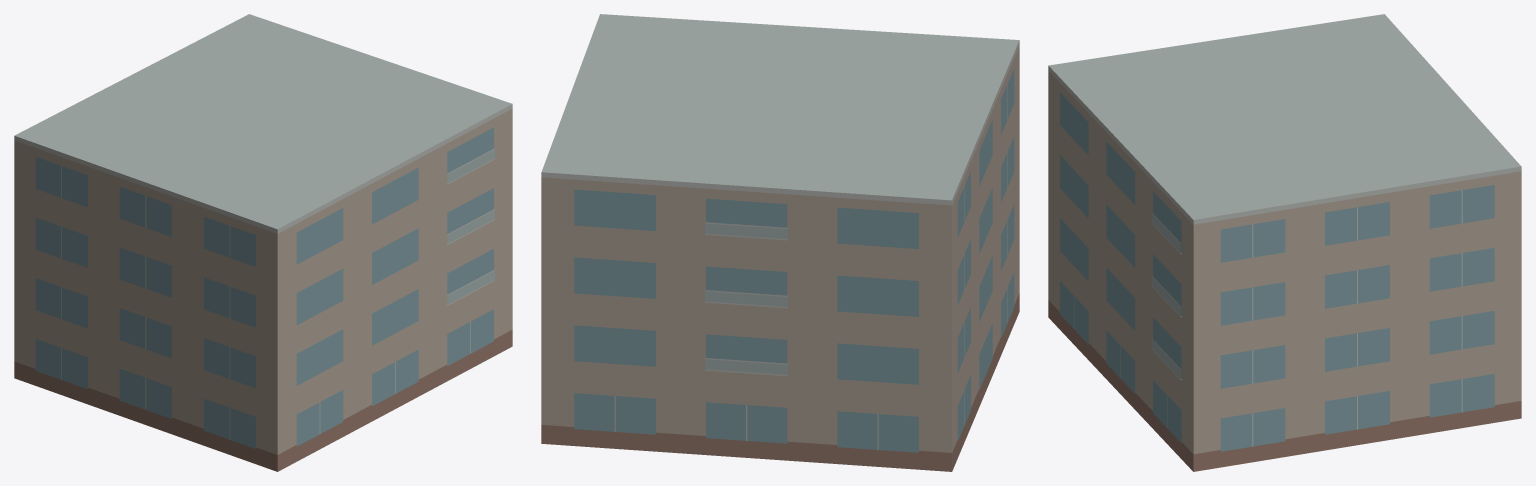
The model's file is survey-upis-32843944.glb.
The picture shows the model from 3 angles, left to right: view 1: azimuth 30°, elevation 25°; view 2: azimuth 150°, elevation 25°; view 3: azimuth 270°, elevation 25°; orthographic projection. The views are drawn at different scales.
Parts seen in each view (by area): view 1: survey-upis-32843944.tmp; view 2: survey-upis-32843944.tmp; view 3: survey-upis-32843944.tmp.
Part boxes in pixels (bbox=[...]): survey-upis-32843944.tmp: bbox=[14, 14, 512, 471]; survey-upis-32843944.tmp: bbox=[541, 14, 1019, 471]; survey-upis-32843944.tmp: bbox=[1048, 14, 1521, 471].
Bounding box in the file's own units: 22.63 × 12.9 × 21.97.
